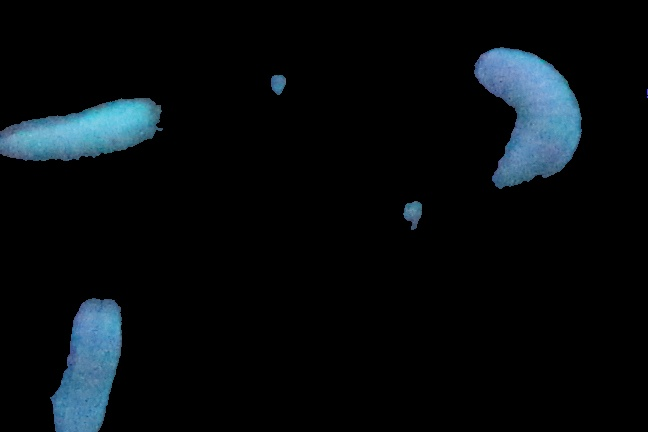larvae: (468, 49, 589, 201), (2, 93, 177, 172), (55, 291, 123, 432)
